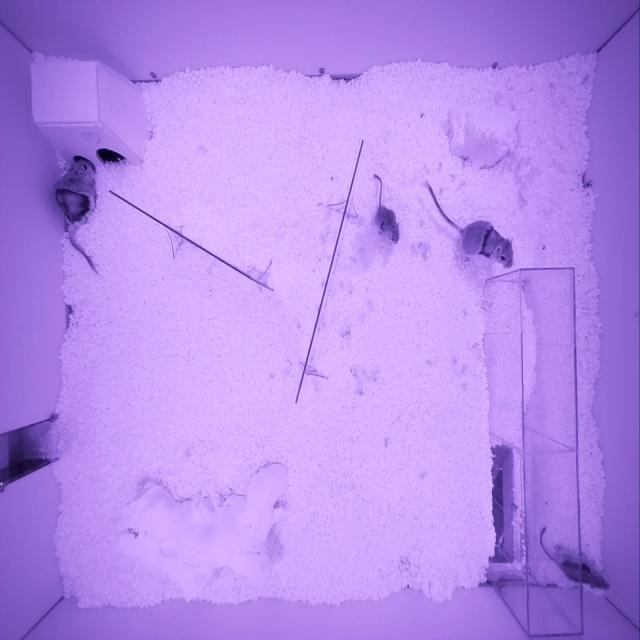adult_back: (54, 160, 96, 226)
adult_front: (460, 221, 513, 269)
pup_spotted: (373, 206, 399, 244)
pup_v_stripe: (555, 551, 610, 590)
